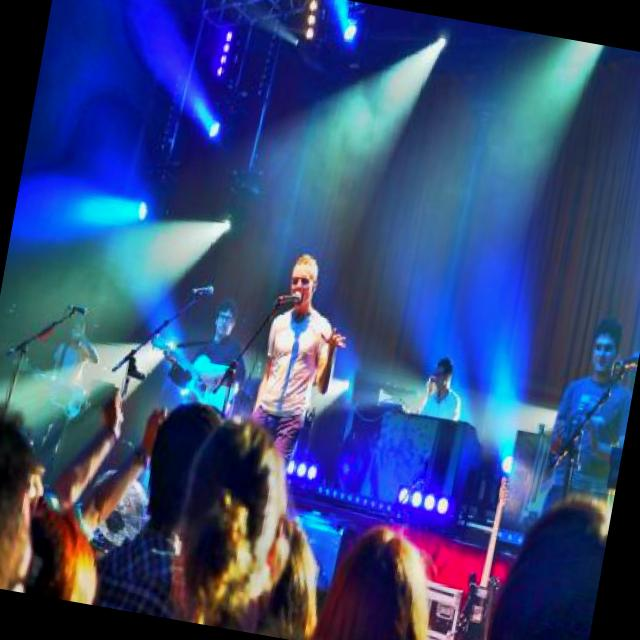Person: (70, 385, 220, 620), (0, 371, 132, 604), (159, 412, 296, 634), (237, 240, 358, 462), (476, 485, 612, 640), (310, 512, 457, 640), (540, 311, 640, 486), (242, 514, 332, 640), (0, 396, 53, 590), (189, 300, 263, 385), (54, 308, 108, 381), (421, 360, 467, 420)
